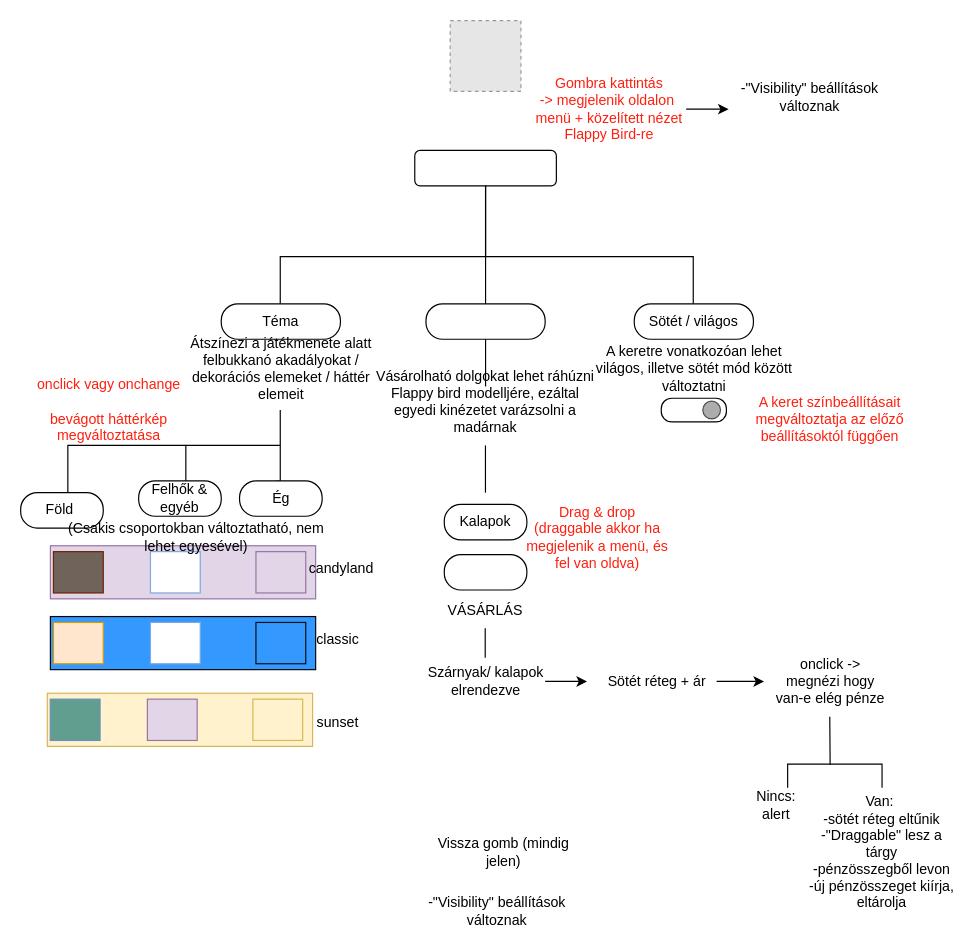
The diagram is 979 pixels wide and 950 high, and some of its shapes have lost their labels. Grey dashed boxes stand in for pictures. Here are the shapes that lost their labels. From the top down, the centre of each, then its label:
the point at 485,167: Kozmetikai menü
the point at 485,321: Kinézet
the point at 485,571: szárnyak
